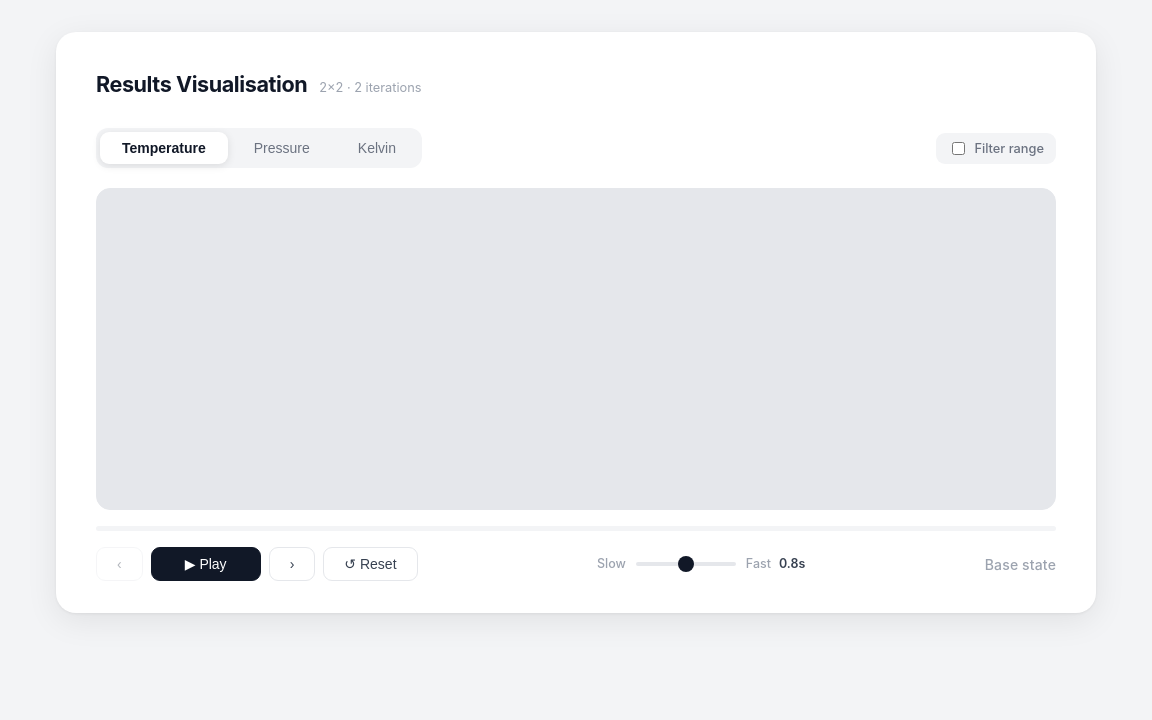
Test: ResultsVisualization — loaded state › step forward advances the step label
Expected: the text "Base state" is shown, left=985, top=554, right=1056, bottom=575
Click the button titled "step forward".
click(292, 564)  # box left=269, top=547, right=315, bottom=581
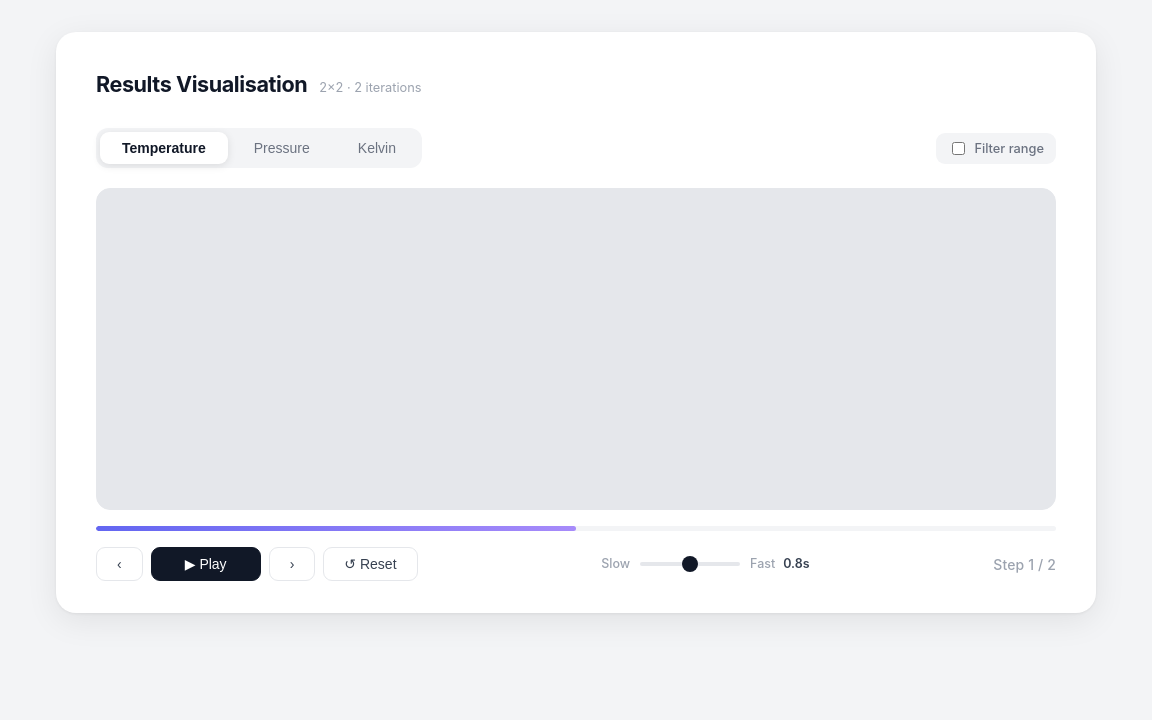
Expected: the text "Step 1 / 2" is shown, left=993, top=554, right=1056, bottom=575
